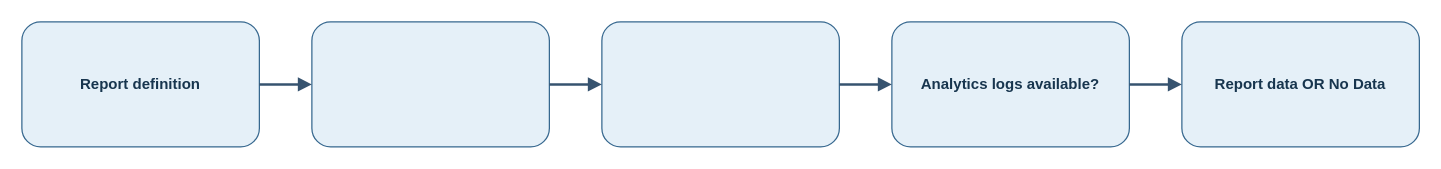
Some shapes in this 1441 by 169 pixel diagram are drawn without their labels. Here are the shapes that lost their labels. From the top down, the centre of each, then its label:
At point (430, 84): "Charts + macros requirements".
At point (720, 84): "Guidance matrix (device/log/fields)".
